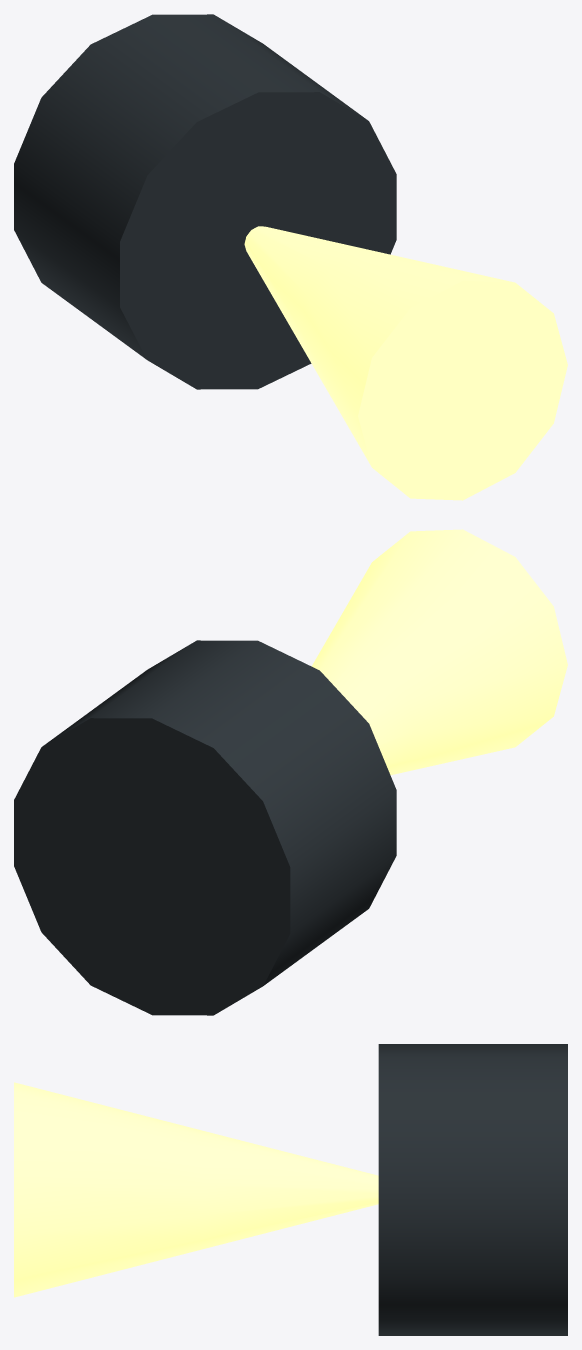
Rendered from afterburner.glb.
3 renders of one model, top to bottom at view 1: azimuth 30°, elevation 25°; view 2: azimuth 150°, elevation 25°; view 3: azimuth 270°, elevation 25°, orthographic. The views are drawn at different scales.
Parts seen in each view (by area): view 1: Ring, Flame; view 2: Ring, Flame; view 3: Ring, Flame.
Part boxes in pixels (x1=…): Ring: x1=14, y1=14, x2=396, y2=389; Flame: x1=244, y1=226, x2=567, y2=500; Ring: x1=14, y1=640, x2=396, y2=1015; Flame: x1=311, y1=529, x2=567, y2=775; Ring: x1=378, y1=1044, x2=567, y2=1335; Flame: x1=14, y1=1082, x2=378, y2=1297.
Size of the model in its own units: 0.5265 by 0.54 by 1.02.
